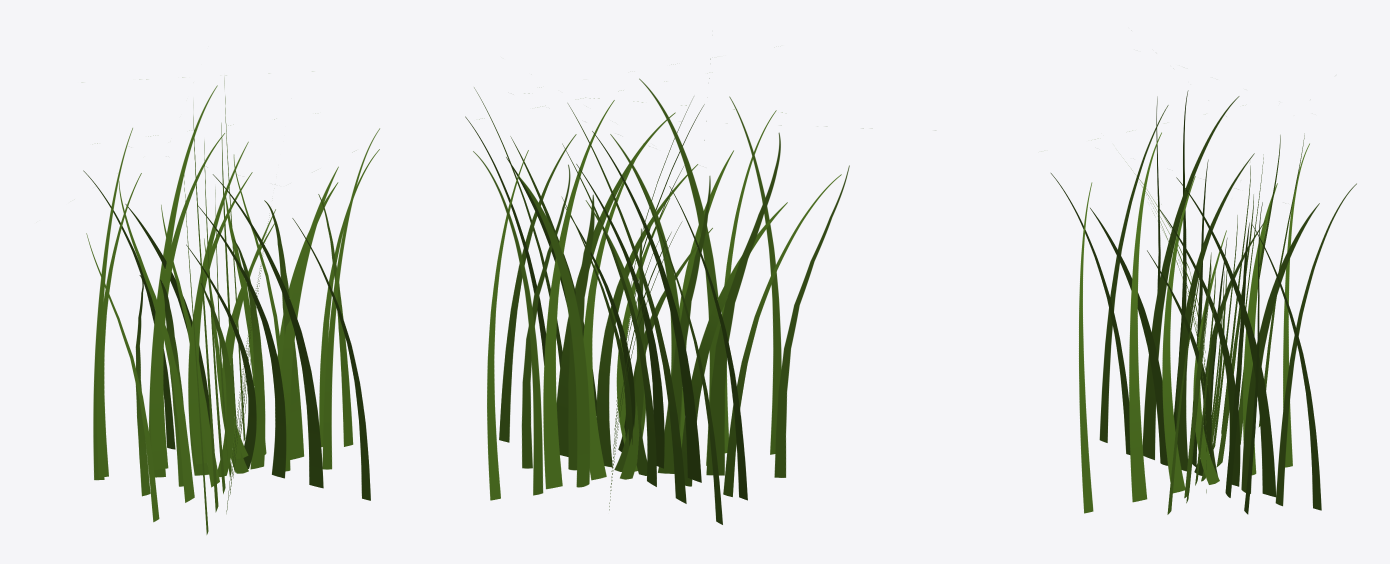
Rendered from grass_free_to_use.glb.
The picture shows the model from 3 angles, left to right: view 1: azimuth 30°, elevation 25°; view 2: azimuth 150°, elevation 25°; view 3: azimuth 270°, elevation 25°; orthographic projection. The views are drawn at different scales.
Parts seen in each view (by area): view 1: pPlane12; view 2: pPlane12; view 3: pPlane12.
Part boxes in pixels (x1=…): pPlane12: x1=83, y1=77, x2=379, y2=534; pPlane12: x1=465, y1=59, x2=863, y2=524; pPlane12: x1=1051, y1=90, x2=1356, y2=514.
Size of the model in its own units: 69.55 by 59.99 by 51.91.
Materials: 1 (1 with a texture image).
